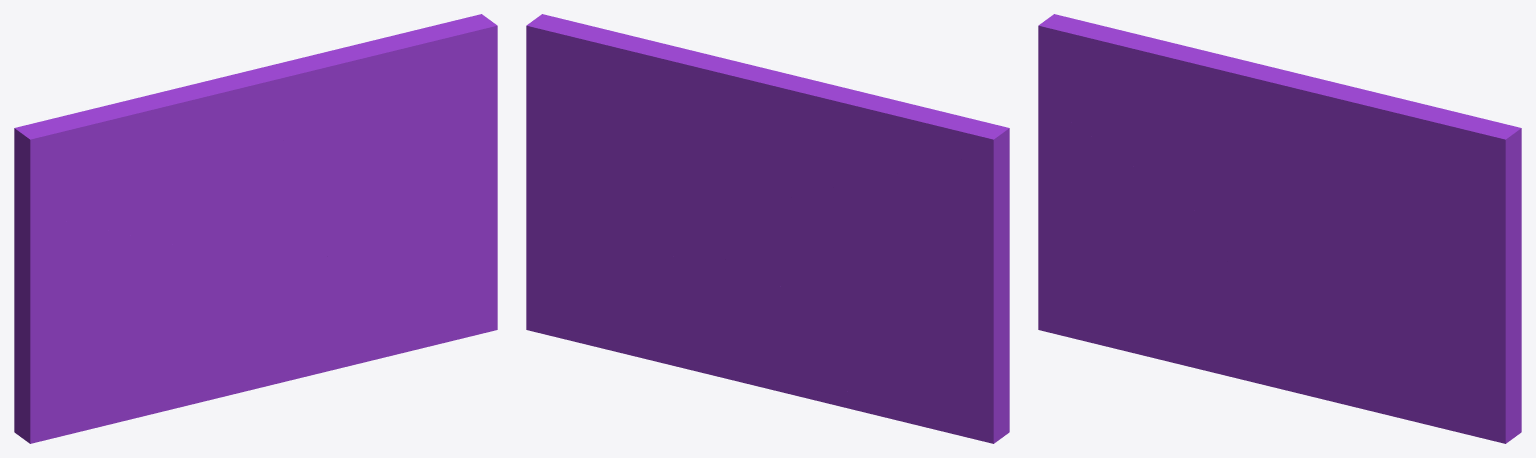
The model's file is Barrier_117_chunks.fbx.
The picture shows the model from 3 angles, left to right: view 1: azimuth 30°, elevation 25°; view 2: azimuth 150°, elevation 25°; view 3: azimuth 330°, elevation 25°; orthographic projection.
Parts seen in each view (by area): view 1: Barrier_117_2, Barrier_117_0, Barrier_117_1, Barrier_117_5, Barrier_117_4, Barrier_117_3, Barrier_117_6; view 2: Barrier_117_1, Barrier_117_2, Barrier_117_0, Barrier_117_3, Barrier_117_4, Barrier_117_6, Barrier_117_5; view 3: Barrier_117_2, Barrier_117_0, Barrier_117_1, Barrier_117_4, Barrier_117_5, Barrier_117_3, Barrier_117_6.
Boxes of the visible parts, left/top/right/bottom form: Barrier_117_2: left=247, top=14, right=497, bottom=264; Barrier_117_0: left=14, top=71, right=288, bottom=258; Barrier_117_1: left=14, top=141, right=234, bottom=443; Barrier_117_5: left=150, top=229, right=342, bottom=391; Barrier_117_4: left=312, top=254, right=497, bottom=374; Barrier_117_3: left=133, top=330, right=318, bottom=418; Barrier_117_6: left=318, top=235, right=433, bottom=289; Barrier_117_1: left=753, top=152, right=1009, bottom=443; Barrier_117_2: left=526, top=14, right=770, bottom=280; Barrier_117_0: left=751, top=65, right=1009, bottom=201; Barrier_117_3: left=677, top=281, right=859, bottom=411; Barrier_117_4: left=526, top=270, right=685, bottom=368; Barrier_117_6: left=590, top=247, right=730, bottom=303; Barrier_117_5: left=716, top=244, right=795, bottom=310; Barrier_117_2: left=1285, top=71, right=1521, bottom=383; Barrier_117_0: left=1038, top=14, right=1296, bottom=244; Barrier_117_1: left=1038, top=99, right=1242, bottom=354; Barrier_117_4: left=1320, top=328, right=1521, bottom=443; Barrier_117_5: left=1158, top=235, right=1350, bottom=355; Barrier_117_3: left=1141, top=336, right=1326, bottom=398; Barrier_117_6: left=1327, top=263, right=1441, bottom=337.
Size of the model in its own units: 462 by 288 by 27.2.
